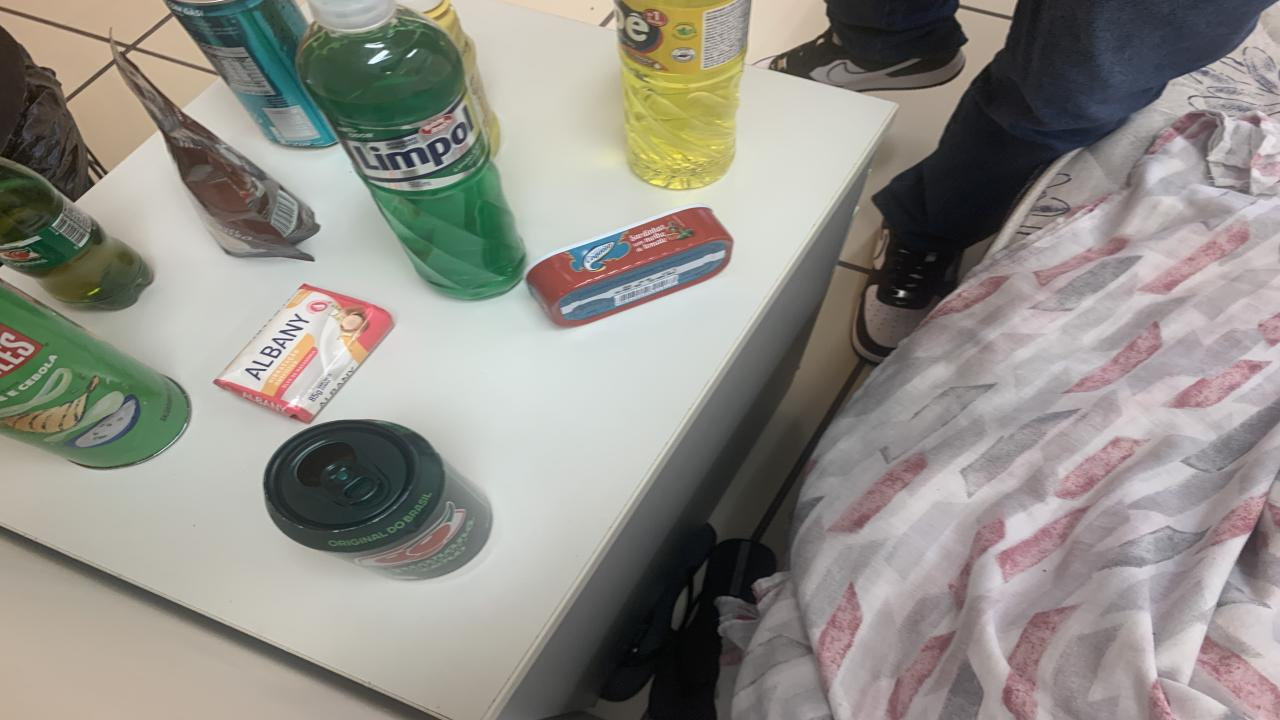Coffee-Pantry_Items: (110, 39, 320, 261)
Detergent-Cleanup_Items: (298, 0, 525, 298), (615, 0, 750, 189)
Guarana-Drinks: (0, 158, 152, 309)
Guarana_Can-Drinks: (262, 420, 492, 579)
Mustard-Pantry_Items: (398, 0, 500, 156)
Pringles-Snacks: (0, 279, 190, 469)
Soap-Cleanup_Items: (215, 285, 395, 422)
Tea-Drinks: (165, 0, 338, 146)
Tuna_Can-Pantry_Items: (525, 204, 732, 326)
